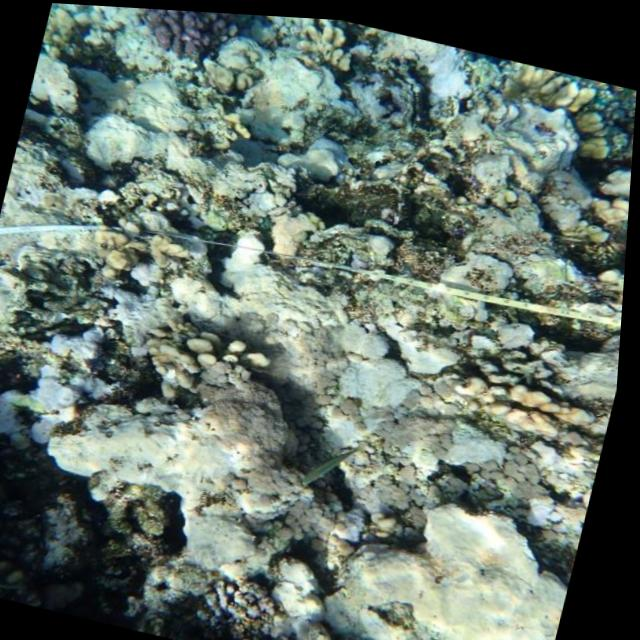Bleached Coral: (205, 231, 555, 511), (31, 340, 341, 583), (338, 433, 599, 640), (1, 243, 183, 454), (248, 109, 387, 191)
Healthy Coral: (106, 5, 249, 66)
